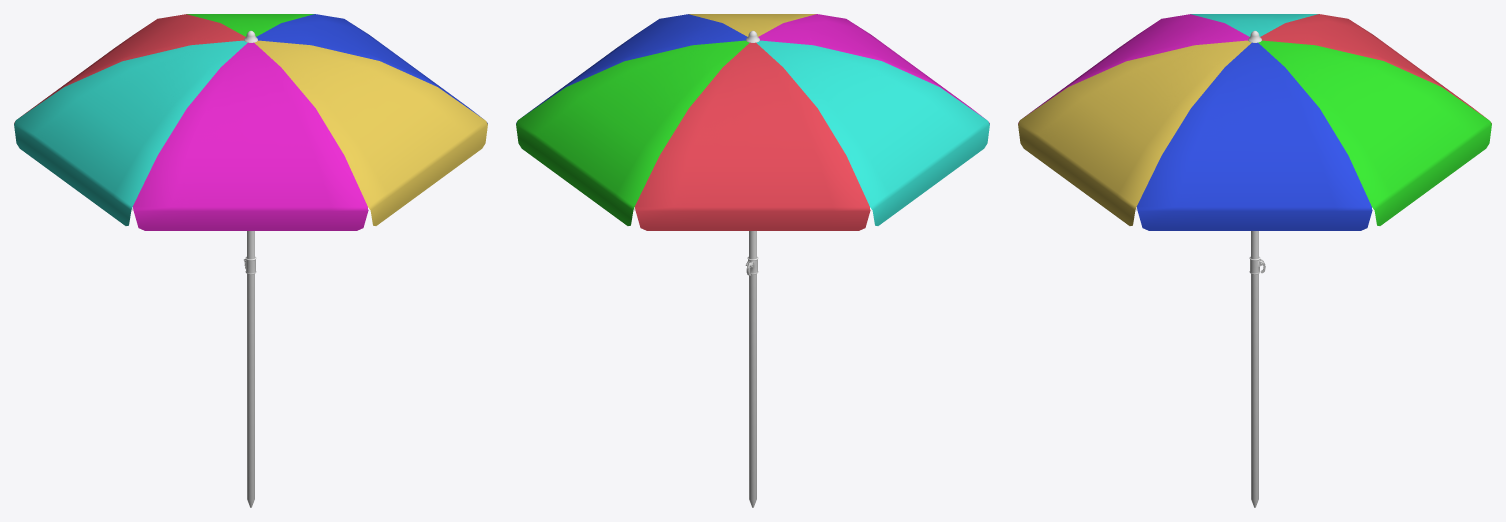
Rendered from Umbrella 1.fbx.
3 views of the same model, side by side, from view 1: azimuth 30°, elevation 25°; view 2: azimuth 150°, elevation 25°; view 3: azimuth 270°, elevation 25° (orthographic).
Visible parts, largest first — view 1: Umbrella; view 2: Umbrella; view 3: Umbrella.
Part boxes in pixels (box(x1,y1,x2,y2)): Umbrella: box(14, 14, 487, 507); Umbrella: box(516, 14, 989, 507); Umbrella: box(1018, 14, 1491, 507).
Size of the model in its own units: 254 by 325 by 292.
